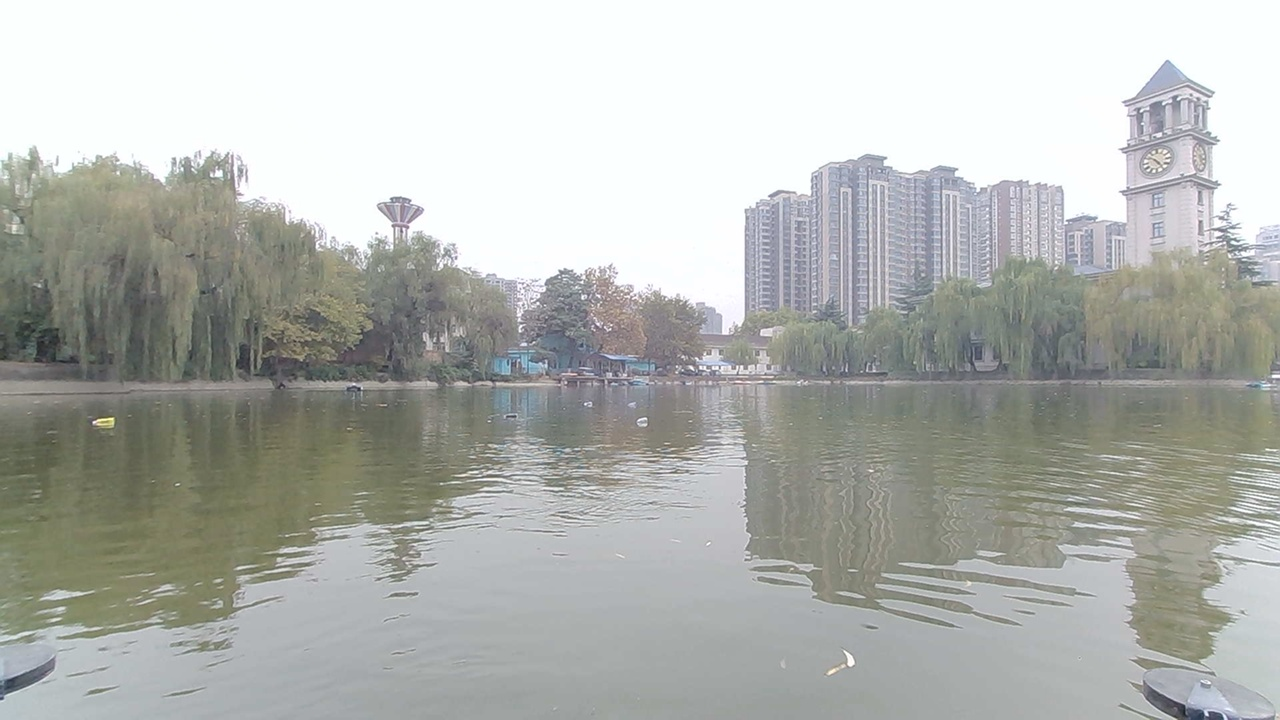bottle: (86, 410, 128, 434), (497, 405, 527, 427), (630, 413, 660, 434), (619, 394, 652, 411), (577, 394, 599, 413)
